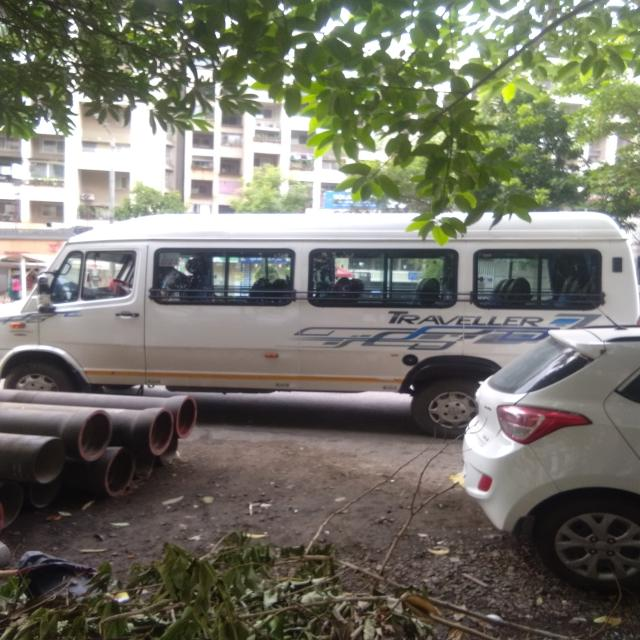Car: (463, 326, 640, 592)
Traveller: (0, 212, 638, 436)
